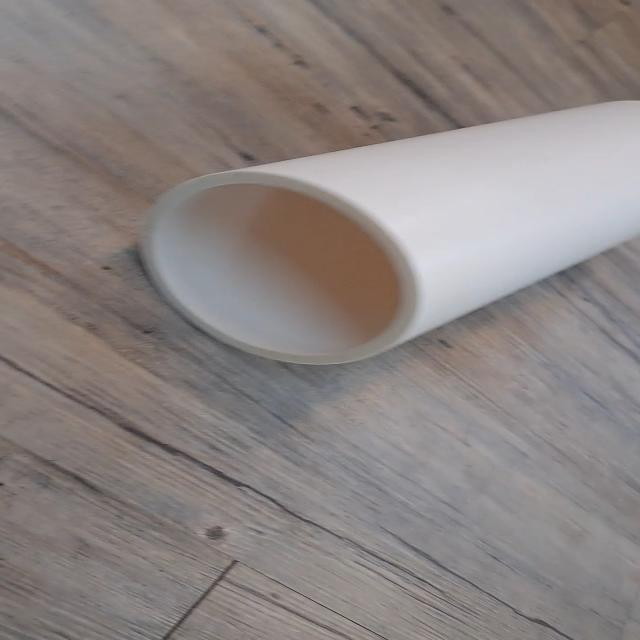CORAL: (137, 94, 640, 376)
